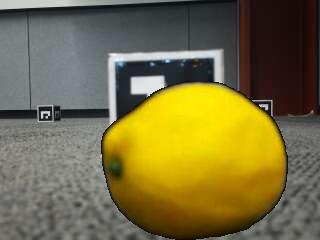lemon: (102, 82, 287, 240)
